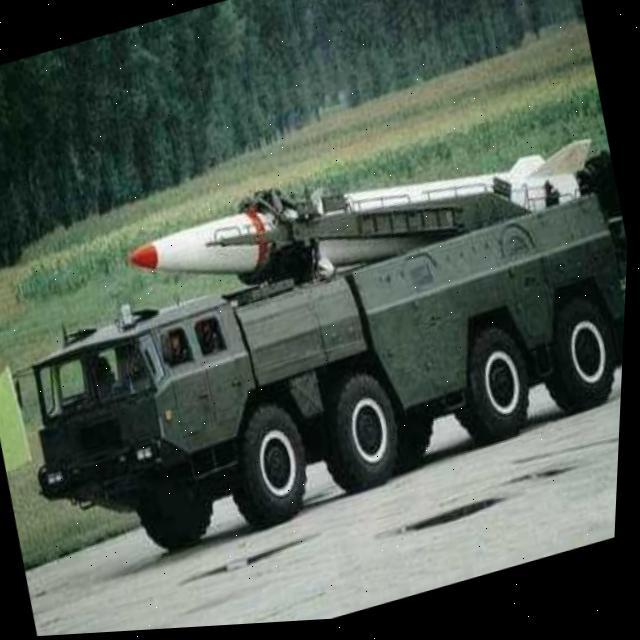missile: (125, 127, 580, 321)
